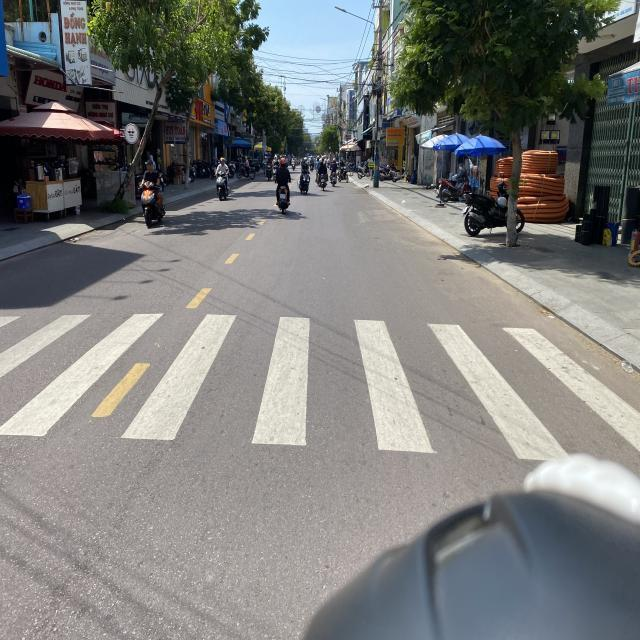walk-crossing: (0, 311, 640, 458)
